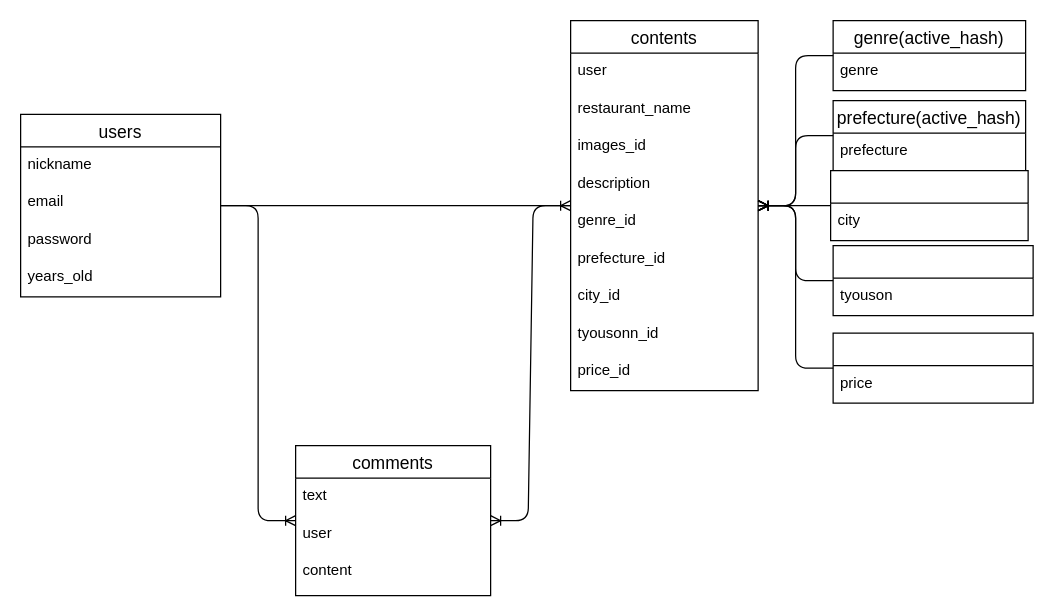
This 1054x616 diagram has some shape labels left out. The box of each missing label's shape, as (x1, y1, x2, y2) in pixels:
city(active_hash): (829, 169, 1028, 241)
price(active_hash): (832, 332, 1033, 403)
tyousonn(active_hash): (832, 244, 1033, 316)
